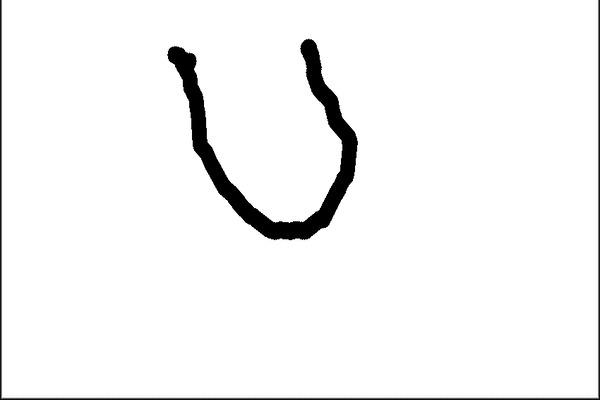U: (160, 26, 364, 255)
